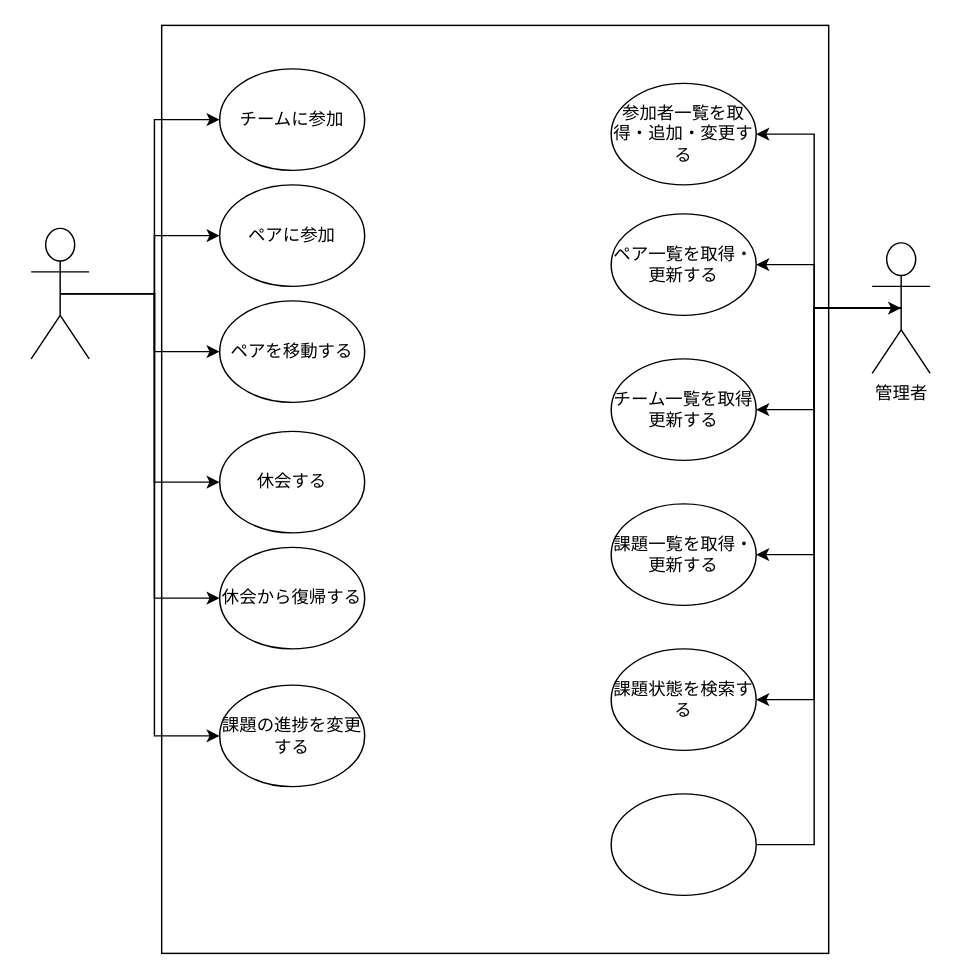
Some shapes in this 956 by 979 pixel diagram are drawn without their labels. Each missing label, with the box of its shape:
メンバー: (30, 227, 89, 359)
合流可能なペアがない旨を通知する: (610, 792, 756, 895)
